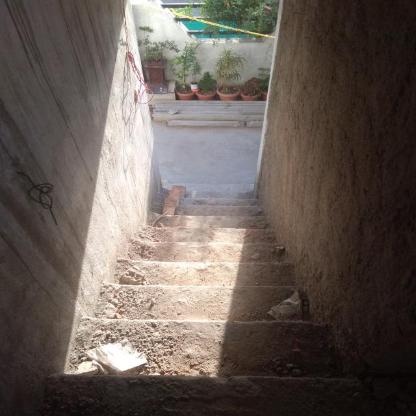stair: (97, 166, 327, 409)
